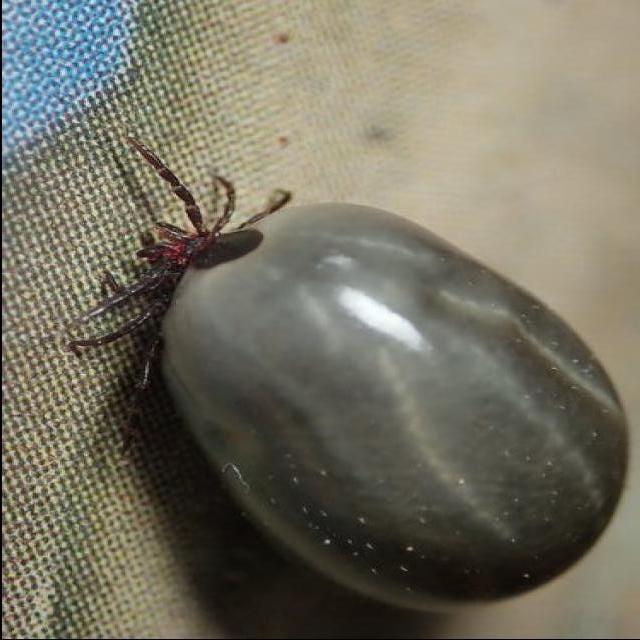Ixodes Ricinus-F-Fed: (61, 138, 626, 613)
